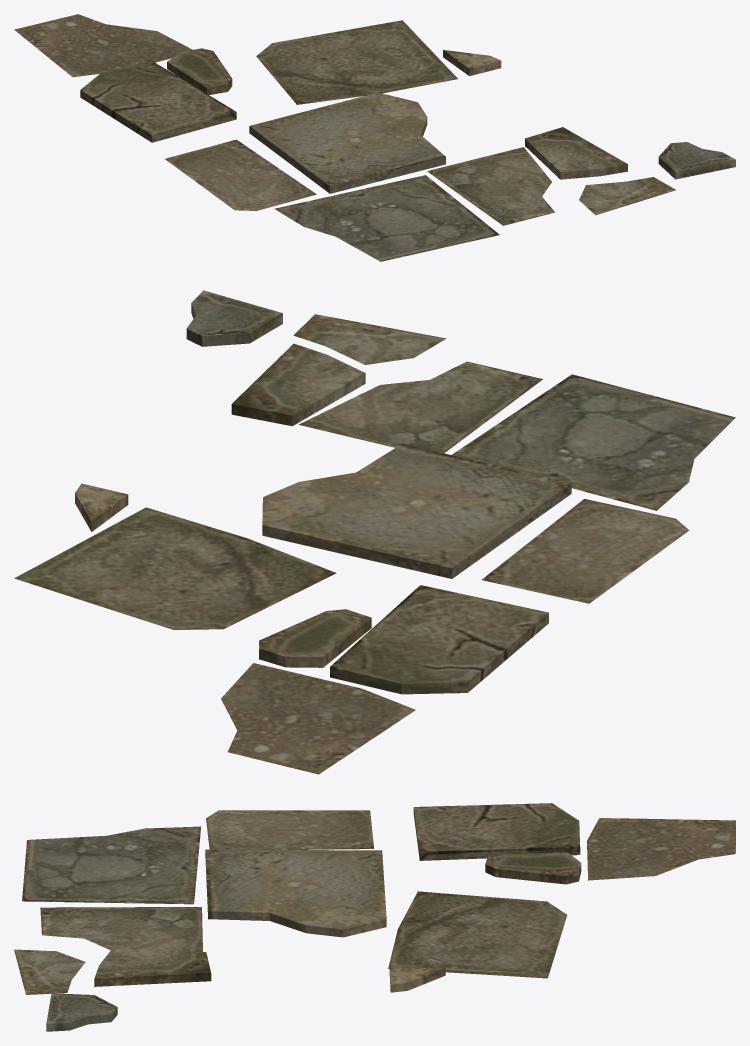
Rendered from bg_anh_gvalley_floore01_03_sm_old.FBX.
3 renders of one model, top to bottom at view 1: azimuth 30°, elevation 25°; view 2: azimuth 150°, elevation 25°; view 3: azimuth 270°, elevation 25°, orthographic. The views are drawn at different scales.
Parts seen in each view (by area): view 1: bg_anh_gvalley_floore01_03_sm_old; view 2: bg_anh_gvalley_floore01_03_sm_old; view 3: bg_anh_gvalley_floore01_03_sm_old.
Part boxes in pixels (bbox=[...]): bg_anh_gvalley_floore01_03_sm_old: bbox=[14, 14, 735, 261]; bg_anh_gvalley_floore01_03_sm_old: bbox=[14, 290, 735, 774]; bg_anh_gvalley_floore01_03_sm_old: bbox=[14, 803, 735, 1031].
Size of the model in its own units: 188 by 3.18 by 259.
